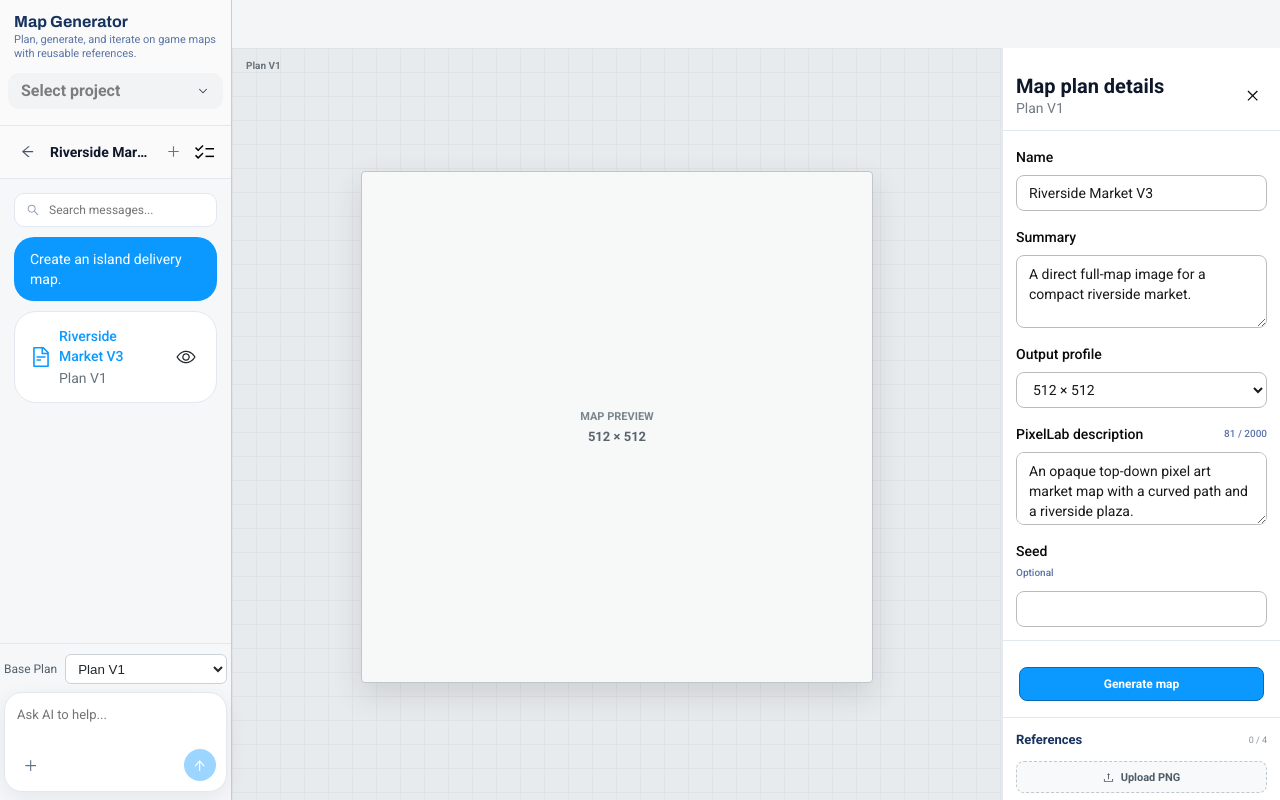
Test: workbench durable state refresh › shows a follow-up user bubble immediately inside the current conversation
This screenshot has width=1280, height=800.
Type "Add a clinic beside the harbor." into the text box labelled "Ask AI to help" at [116, 725], box [15,705,216,745]
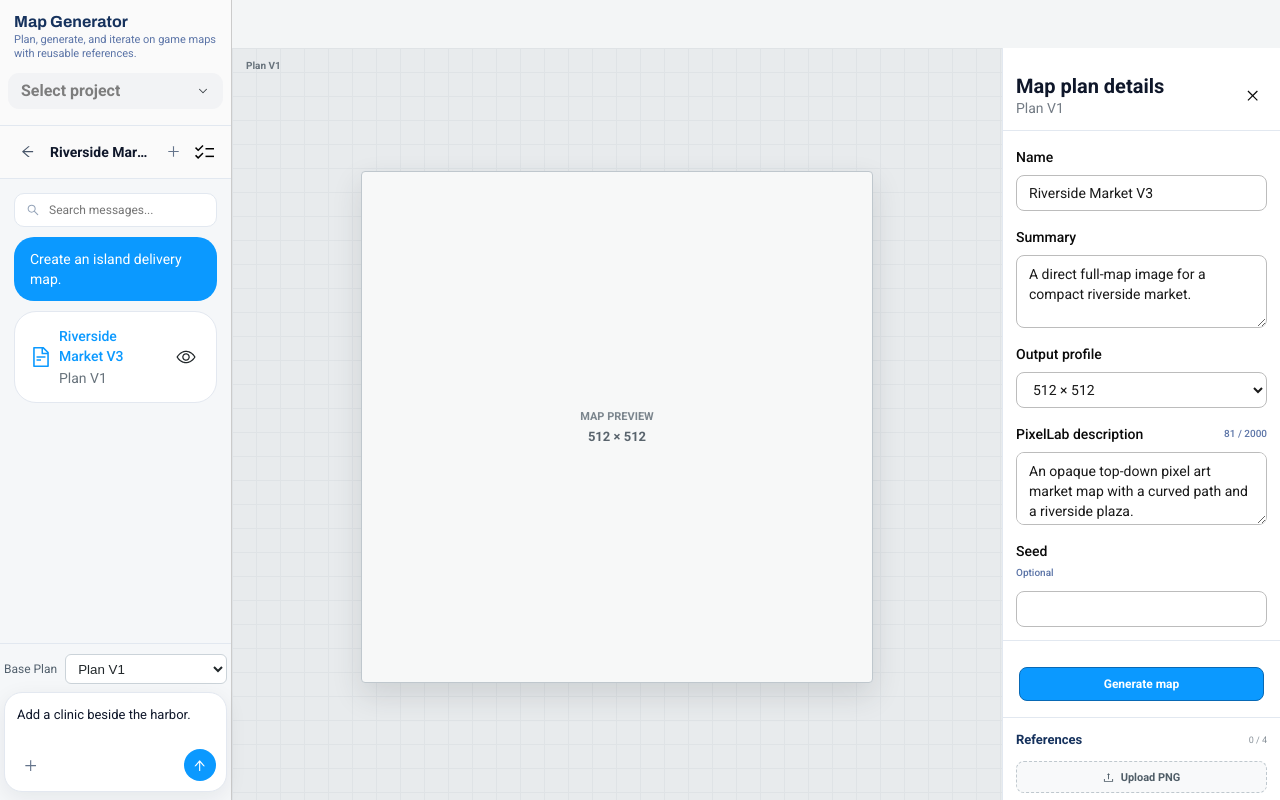
Click the button named "Send" at [200, 765], box [184,749,216,781]
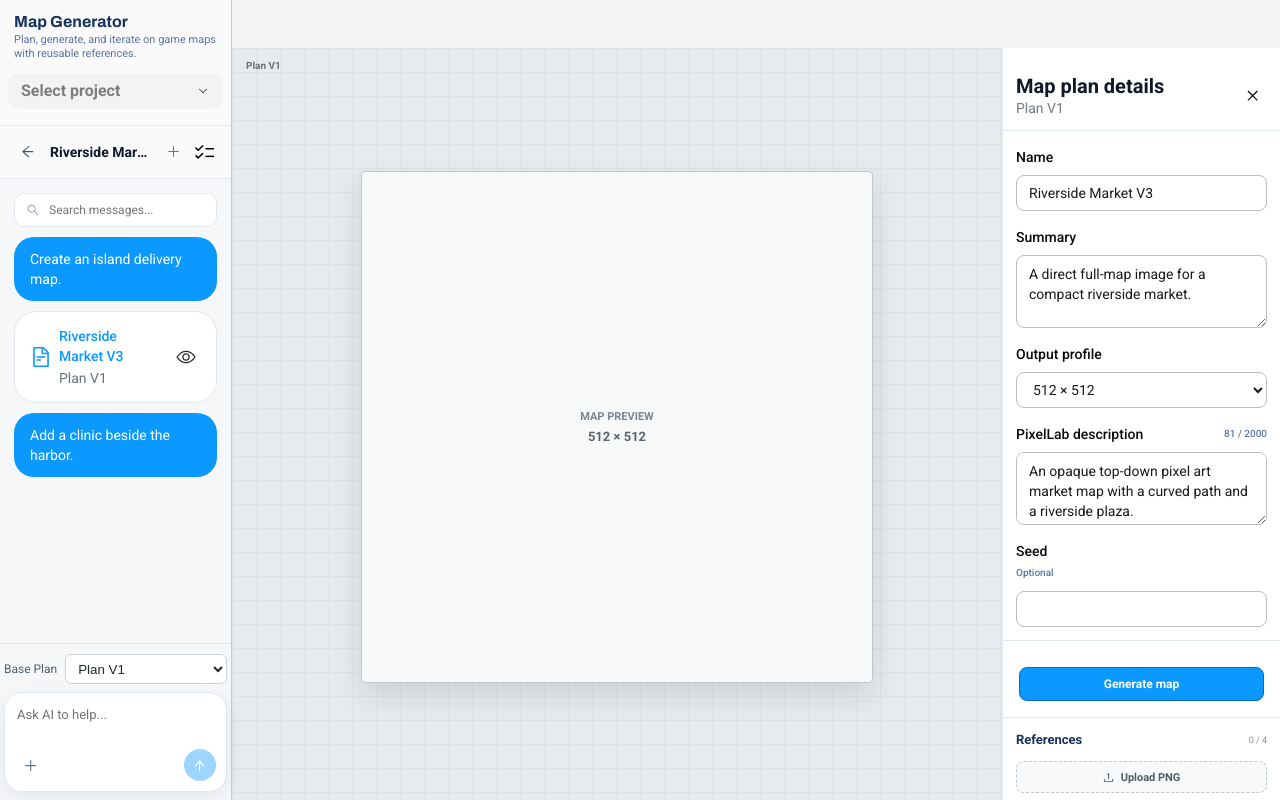
Check: the text "Create an island delivery map." is shown, box [14,237,217,301]
Check: the text "Add a clinic beside the harbor." is shown, box [14,413,217,477]
